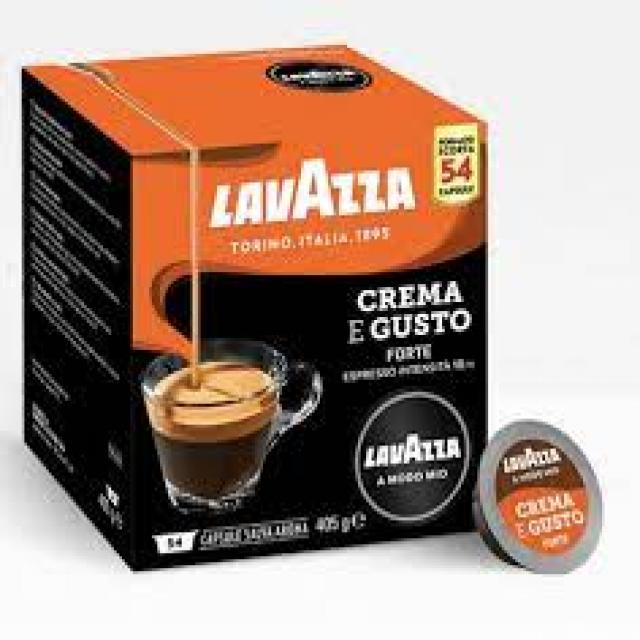Coffee: (22, 42, 491, 574)
